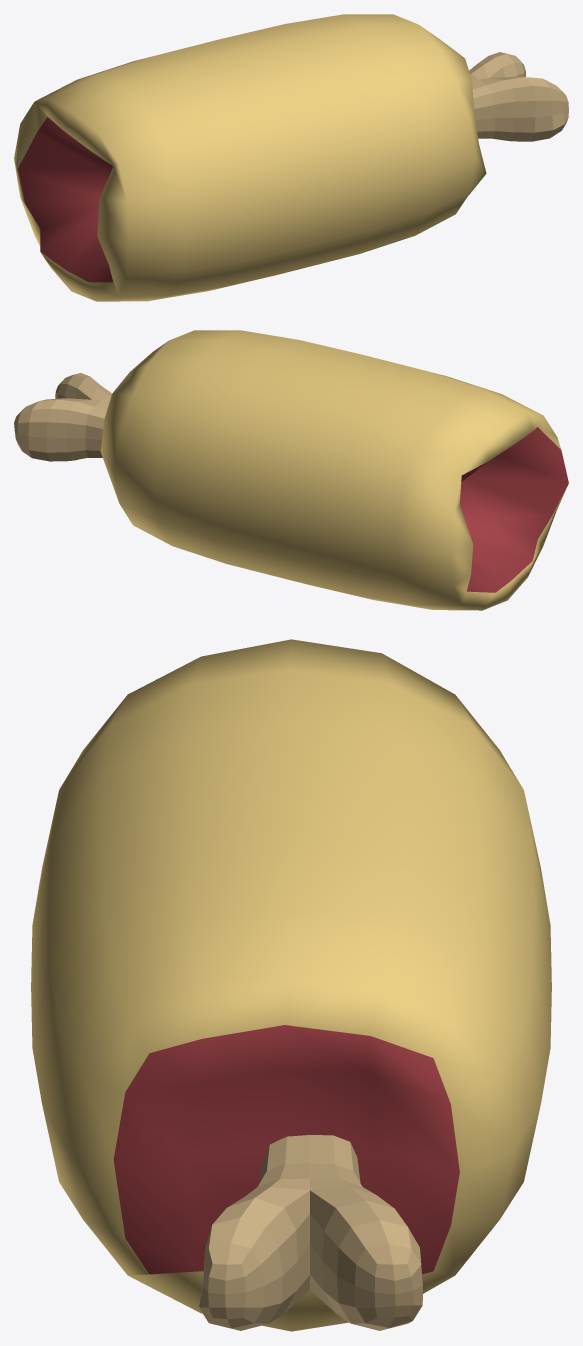
Rendered from MidArm_Dism_2.fbx.
The picture shows the model from 3 angles, top to bottom: view 1: azimuth 30°, elevation 25°; view 2: azimuth 150°, elevation 25°; view 3: azimuth 270°, elevation 25°; orthographic projection. The views are drawn at different scales.
Parts seen in each view (by area): view 1: Bone.001; view 2: Bone.001; view 3: Bone.001.
Part boxes in pixels (box(x1,y1,x2,y2)): Bone.001: box(14, 14, 568, 301); Bone.001: box(14, 330, 568, 610); Bone.001: box(31, 639, 551, 1331).
Bounding box in the file's own units: 109 × 44.52 × 50.79.
